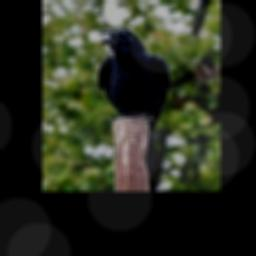Crow: (97, 27, 170, 173)
